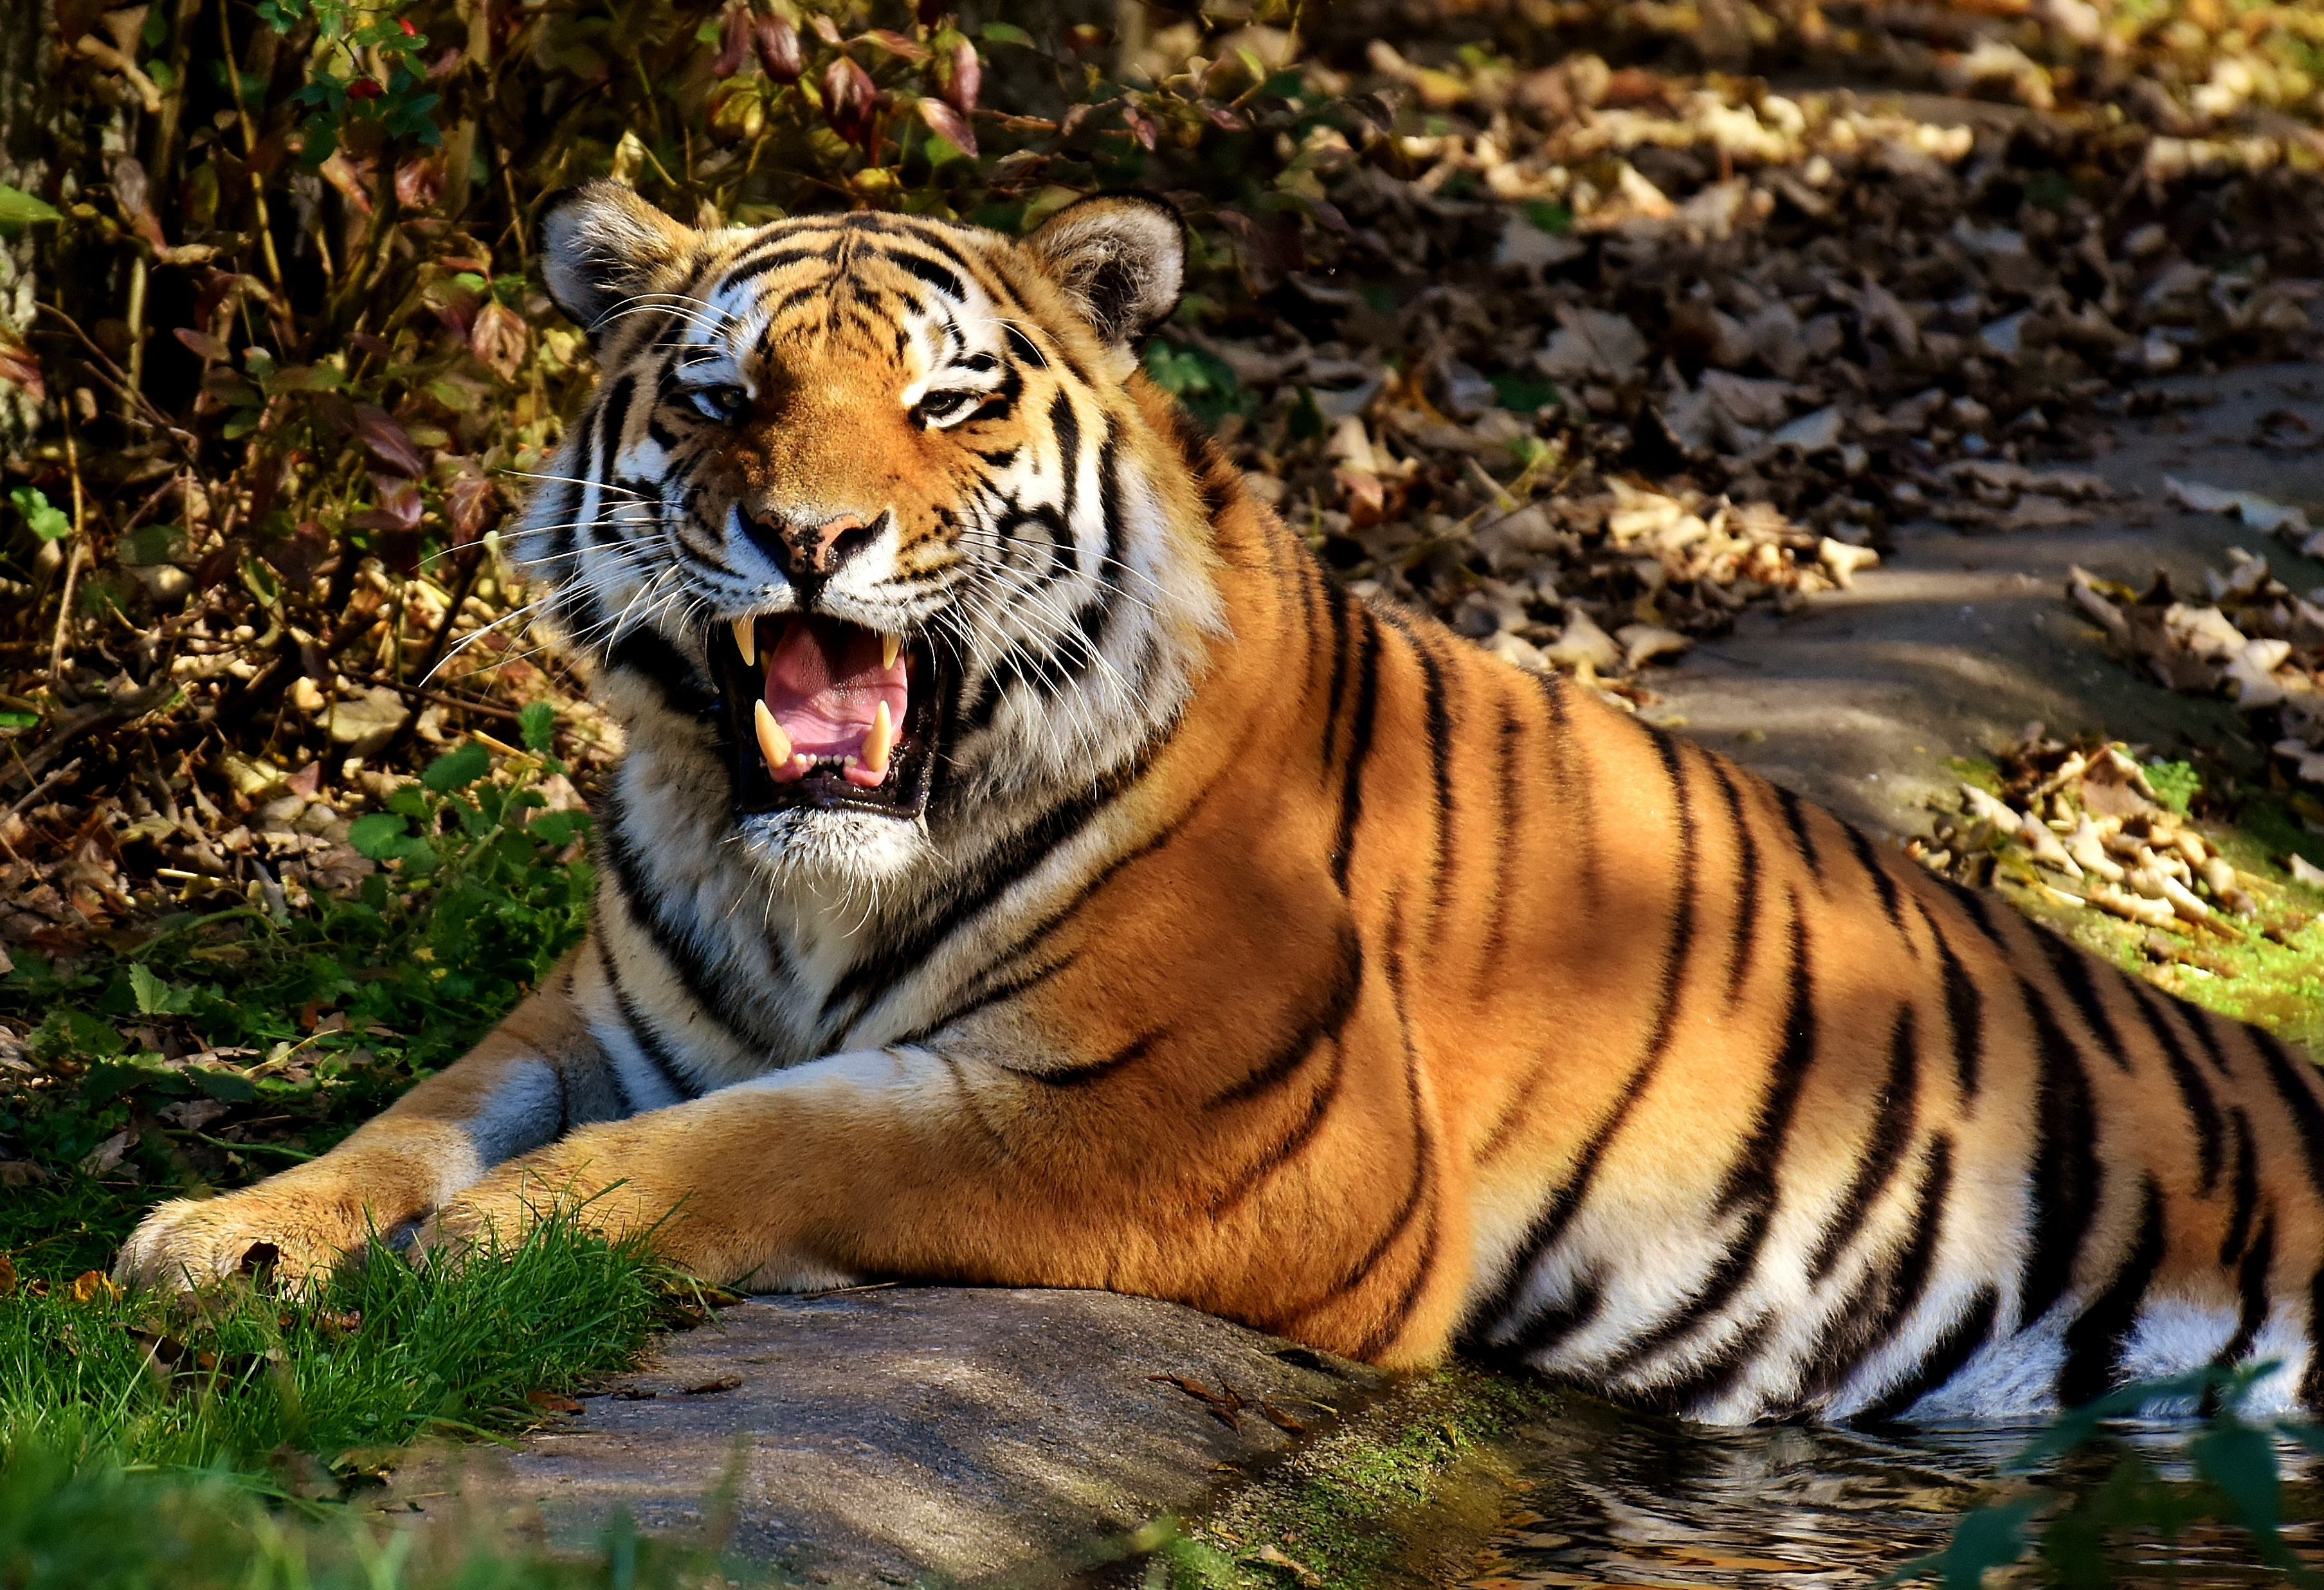tiger: (397, 161, 2239, 1406)
